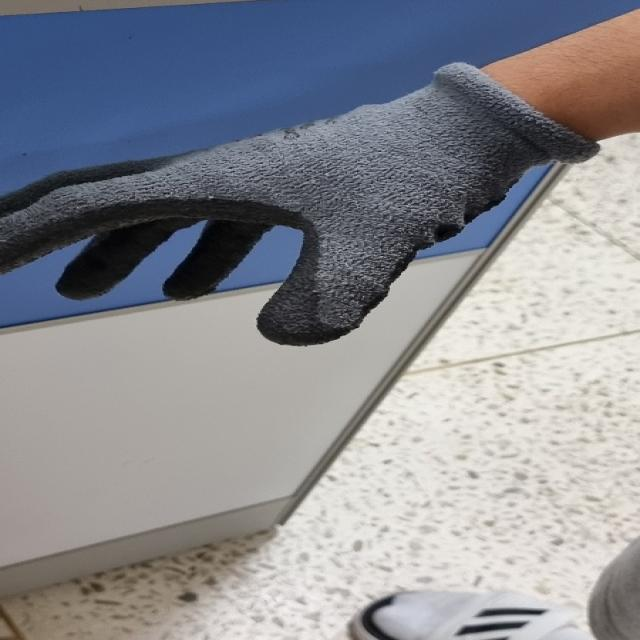Gloves: (1, 56, 605, 355)
